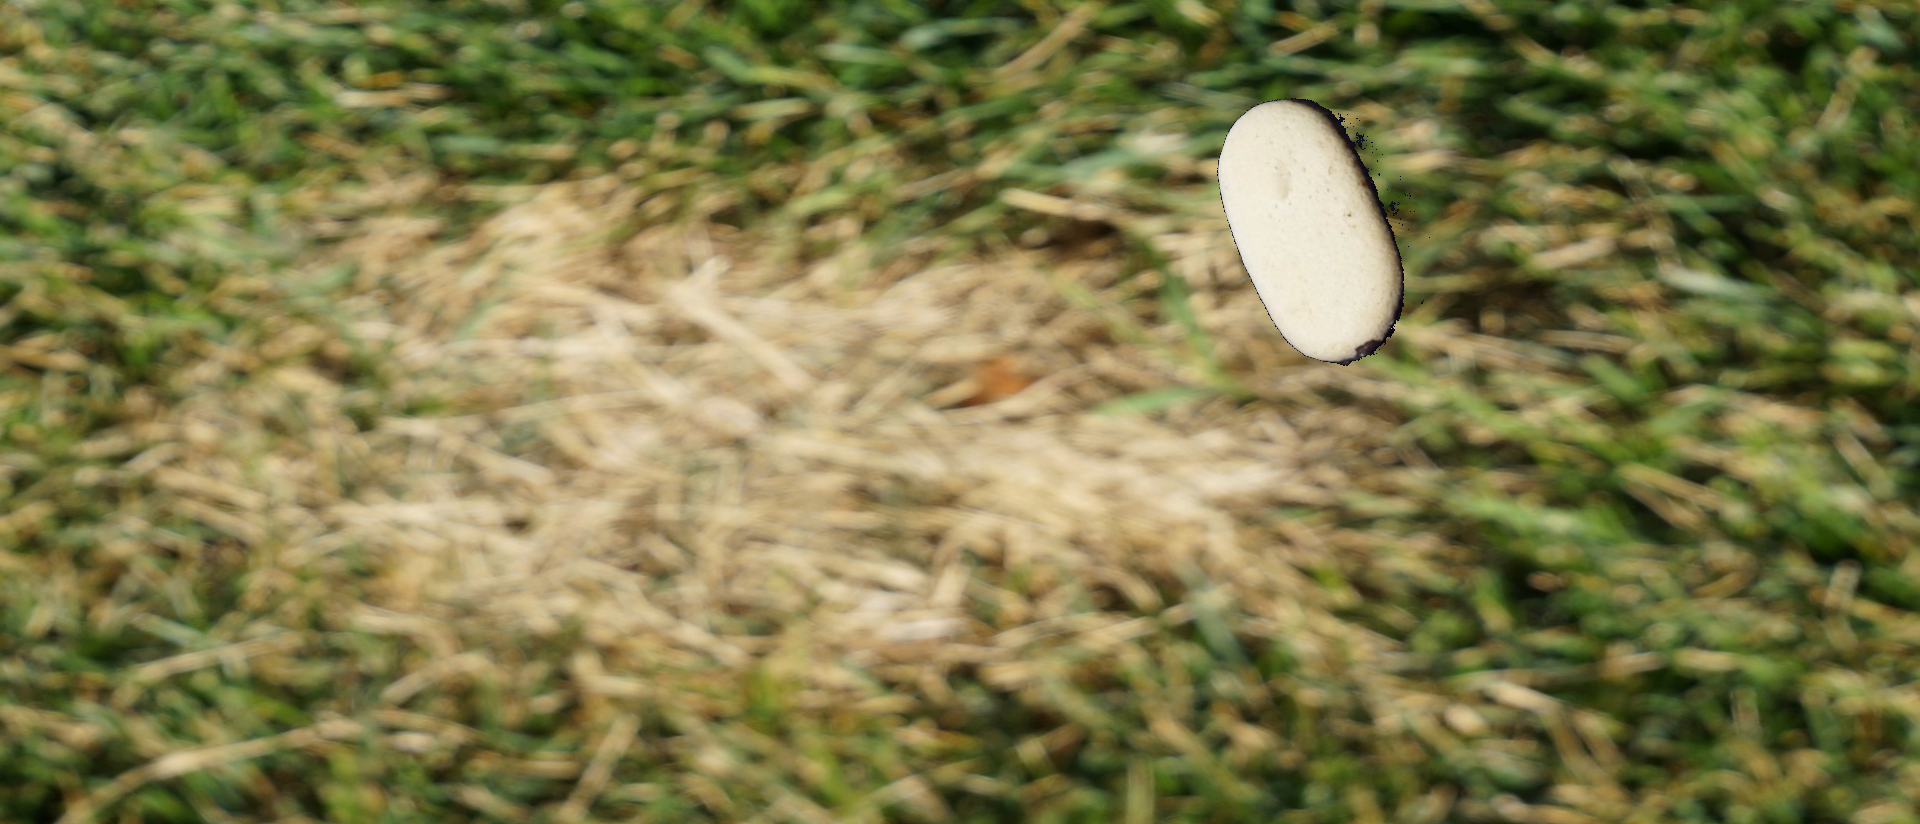test: (1166, 73, 1476, 388)
